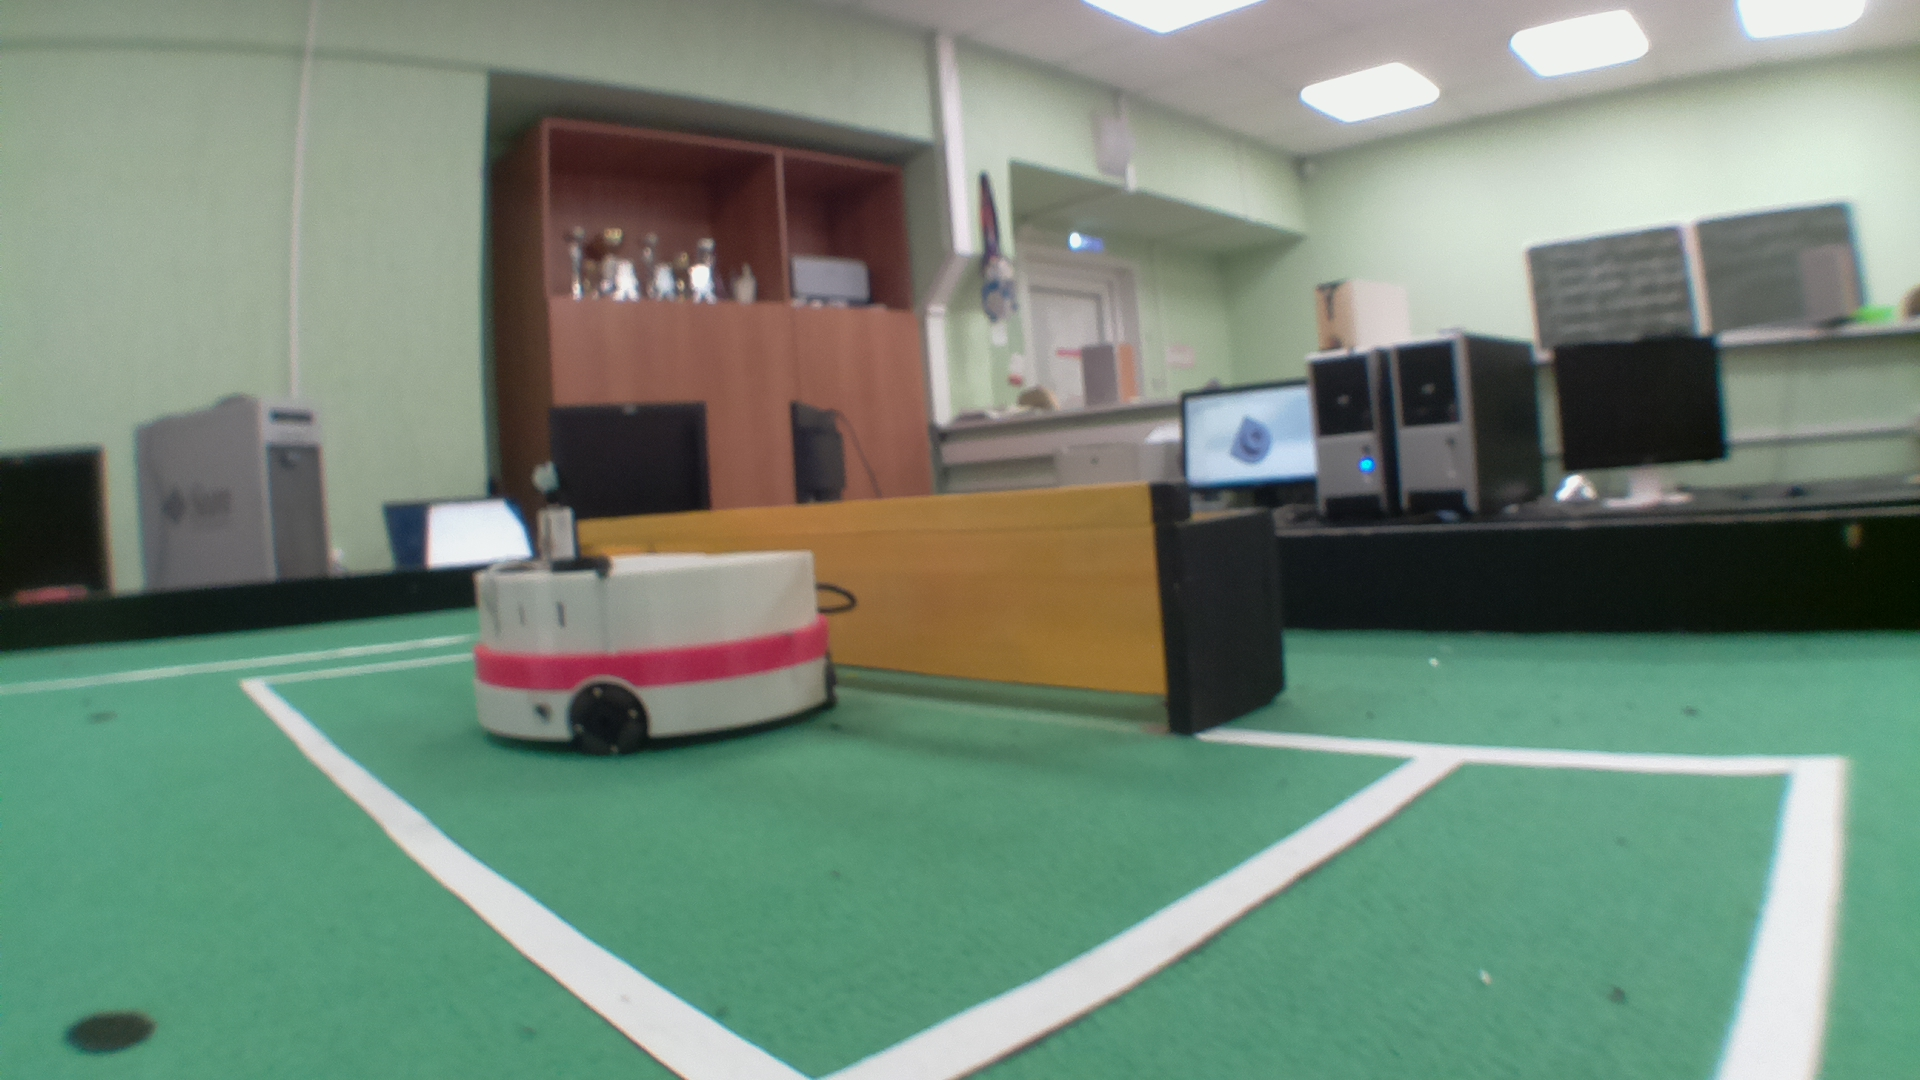YellowGoal: (767, 487, 1164, 698)
